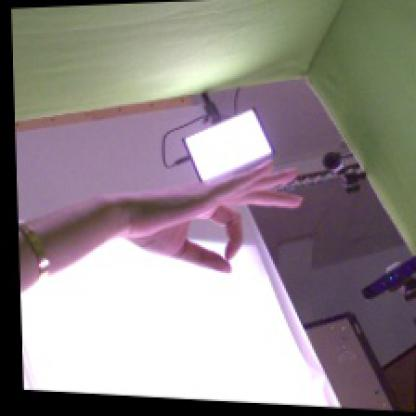Hand: (118, 160, 304, 275)
